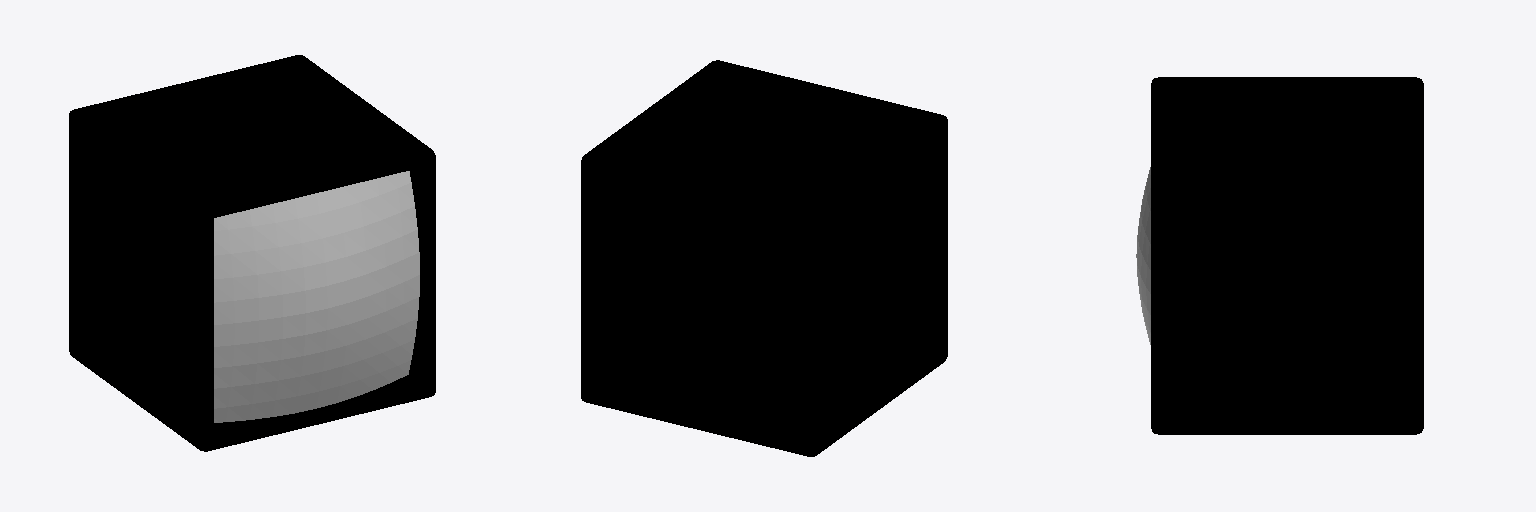
The model's file is WebcamMonitor.obj.
The picture shows the model from 3 angles: view 1: azimuth 30°, elevation 25°; view 2: azimuth 150°, elevation 25°; view 3: azimuth 270°, elevation 25°; orthographic projection.
Parts seen in each view (by area): view 1: Cube; view 2: Cube; view 3: Cube.
Part boxes in pixels (x1,y1,x2,y2): Cube: (69,55,435,451); Cube: (581,60,947,456); Cube: (1136,77,1423,434).
Bounding box in the file's own units: 2 × 2 × 2.11.